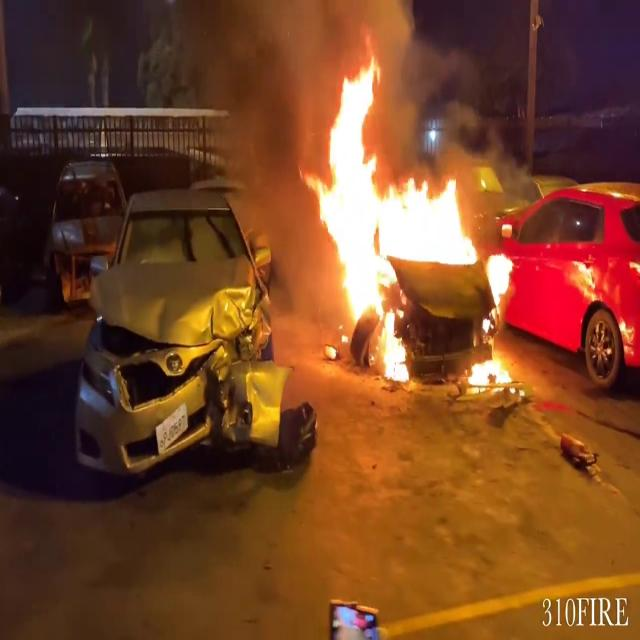Fire: (304, 44, 500, 382), (462, 344, 518, 394)
